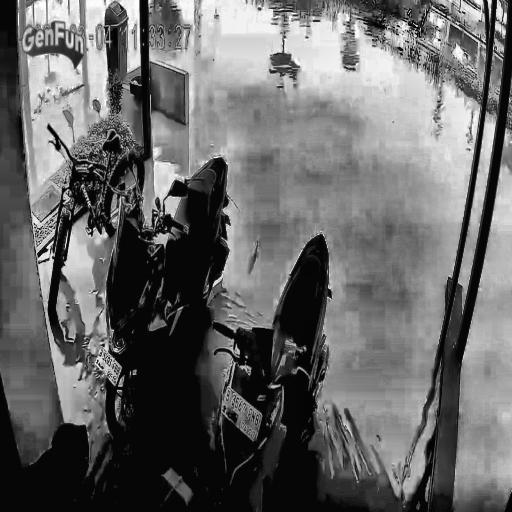banjir: (145, 0, 479, 510), (455, 134, 512, 511)
